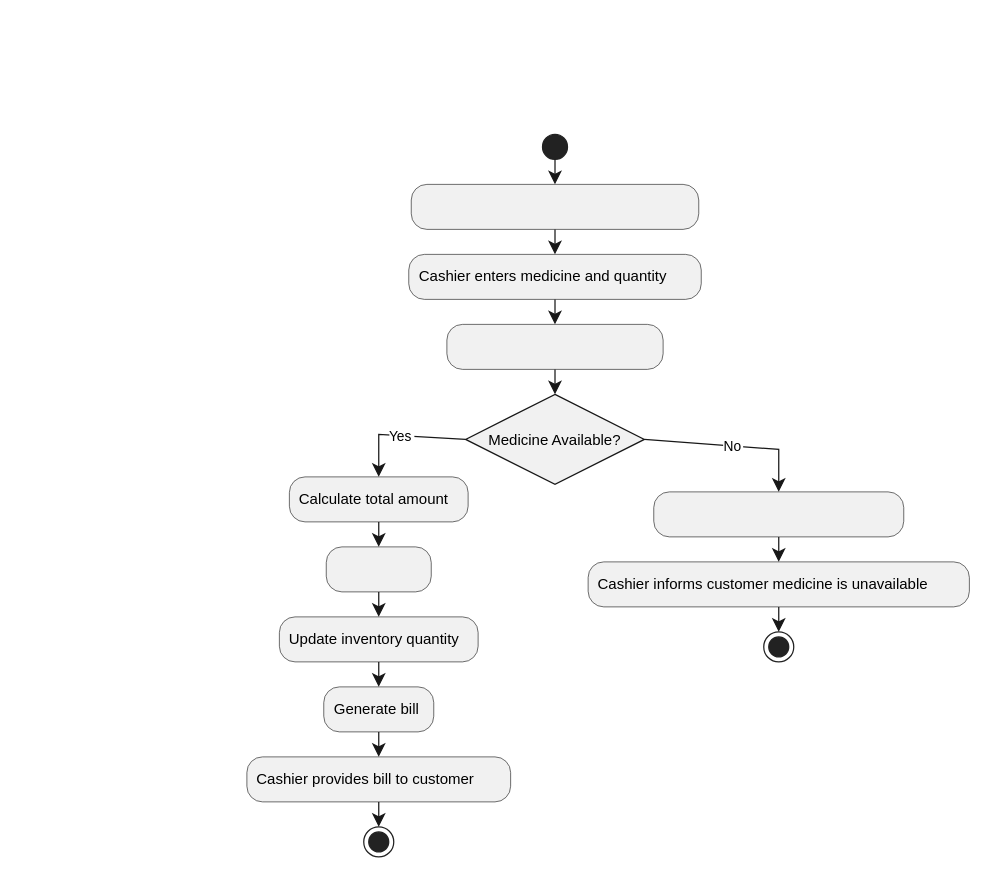
Some shapes in this 991 by 879 pixel diagram are drawn without their labels. The shapes that lost their labels are listed below. From the top down, each one's box as (x1, y1, x2, y2) in pixels, then its label:
(410, 184, 698, 229): Customer requests medicine purchase
(446, 324, 663, 369): Check medicine availability
(653, 491, 904, 537): Display "Out of Stock" message
(325, 546, 431, 592): Record sale
